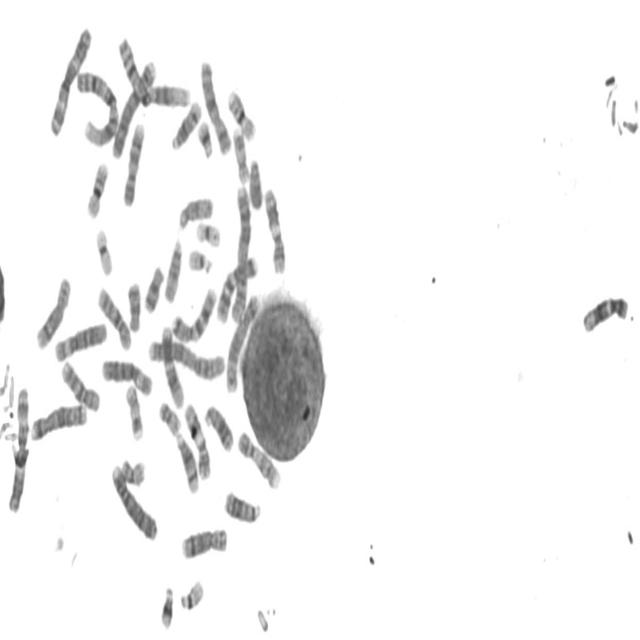A1: (116, 31, 192, 110), (74, 64, 120, 148)
A2: (145, 333, 227, 382), (230, 179, 253, 325)
A3: (48, 20, 94, 138), (6, 382, 30, 514)
B4: (109, 52, 158, 160), (109, 458, 160, 544)
B5: (223, 288, 262, 396), (28, 397, 89, 444)
C10: (95, 281, 134, 353), (58, 355, 102, 414)
C11: (182, 398, 213, 482), (262, 182, 288, 276)
C12: (159, 321, 186, 409), (580, 289, 630, 335)
C6: (52, 316, 108, 365), (100, 353, 154, 399)
C7: (214, 249, 260, 325), (169, 281, 219, 345)
C8: (34, 270, 72, 352), (179, 521, 230, 561)
C9: (235, 425, 282, 491), (120, 116, 147, 209)
D13: (202, 399, 235, 454), (222, 485, 263, 526)
D14: (170, 94, 203, 153), (174, 427, 201, 495)
D15: (177, 190, 216, 232), (162, 234, 184, 305)
E16: (225, 83, 258, 143), (84, 156, 110, 221)
E17: (124, 378, 145, 443), (230, 122, 251, 184)
E18: (142, 260, 166, 315), (125, 275, 143, 334)
F19: (94, 223, 115, 277), (194, 216, 222, 249)
F20: (156, 395, 182, 437), (118, 452, 146, 487)
G21: (158, 581, 176, 631), (195, 115, 215, 159)
G22: (178, 574, 205, 612), (186, 244, 214, 275)
X: (198, 54, 234, 158)
Y: (247, 153, 264, 211)
